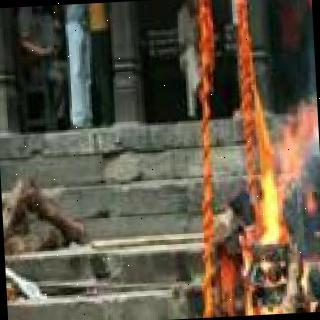fire: (242, 101, 320, 252), (317, 207, 320, 311)
